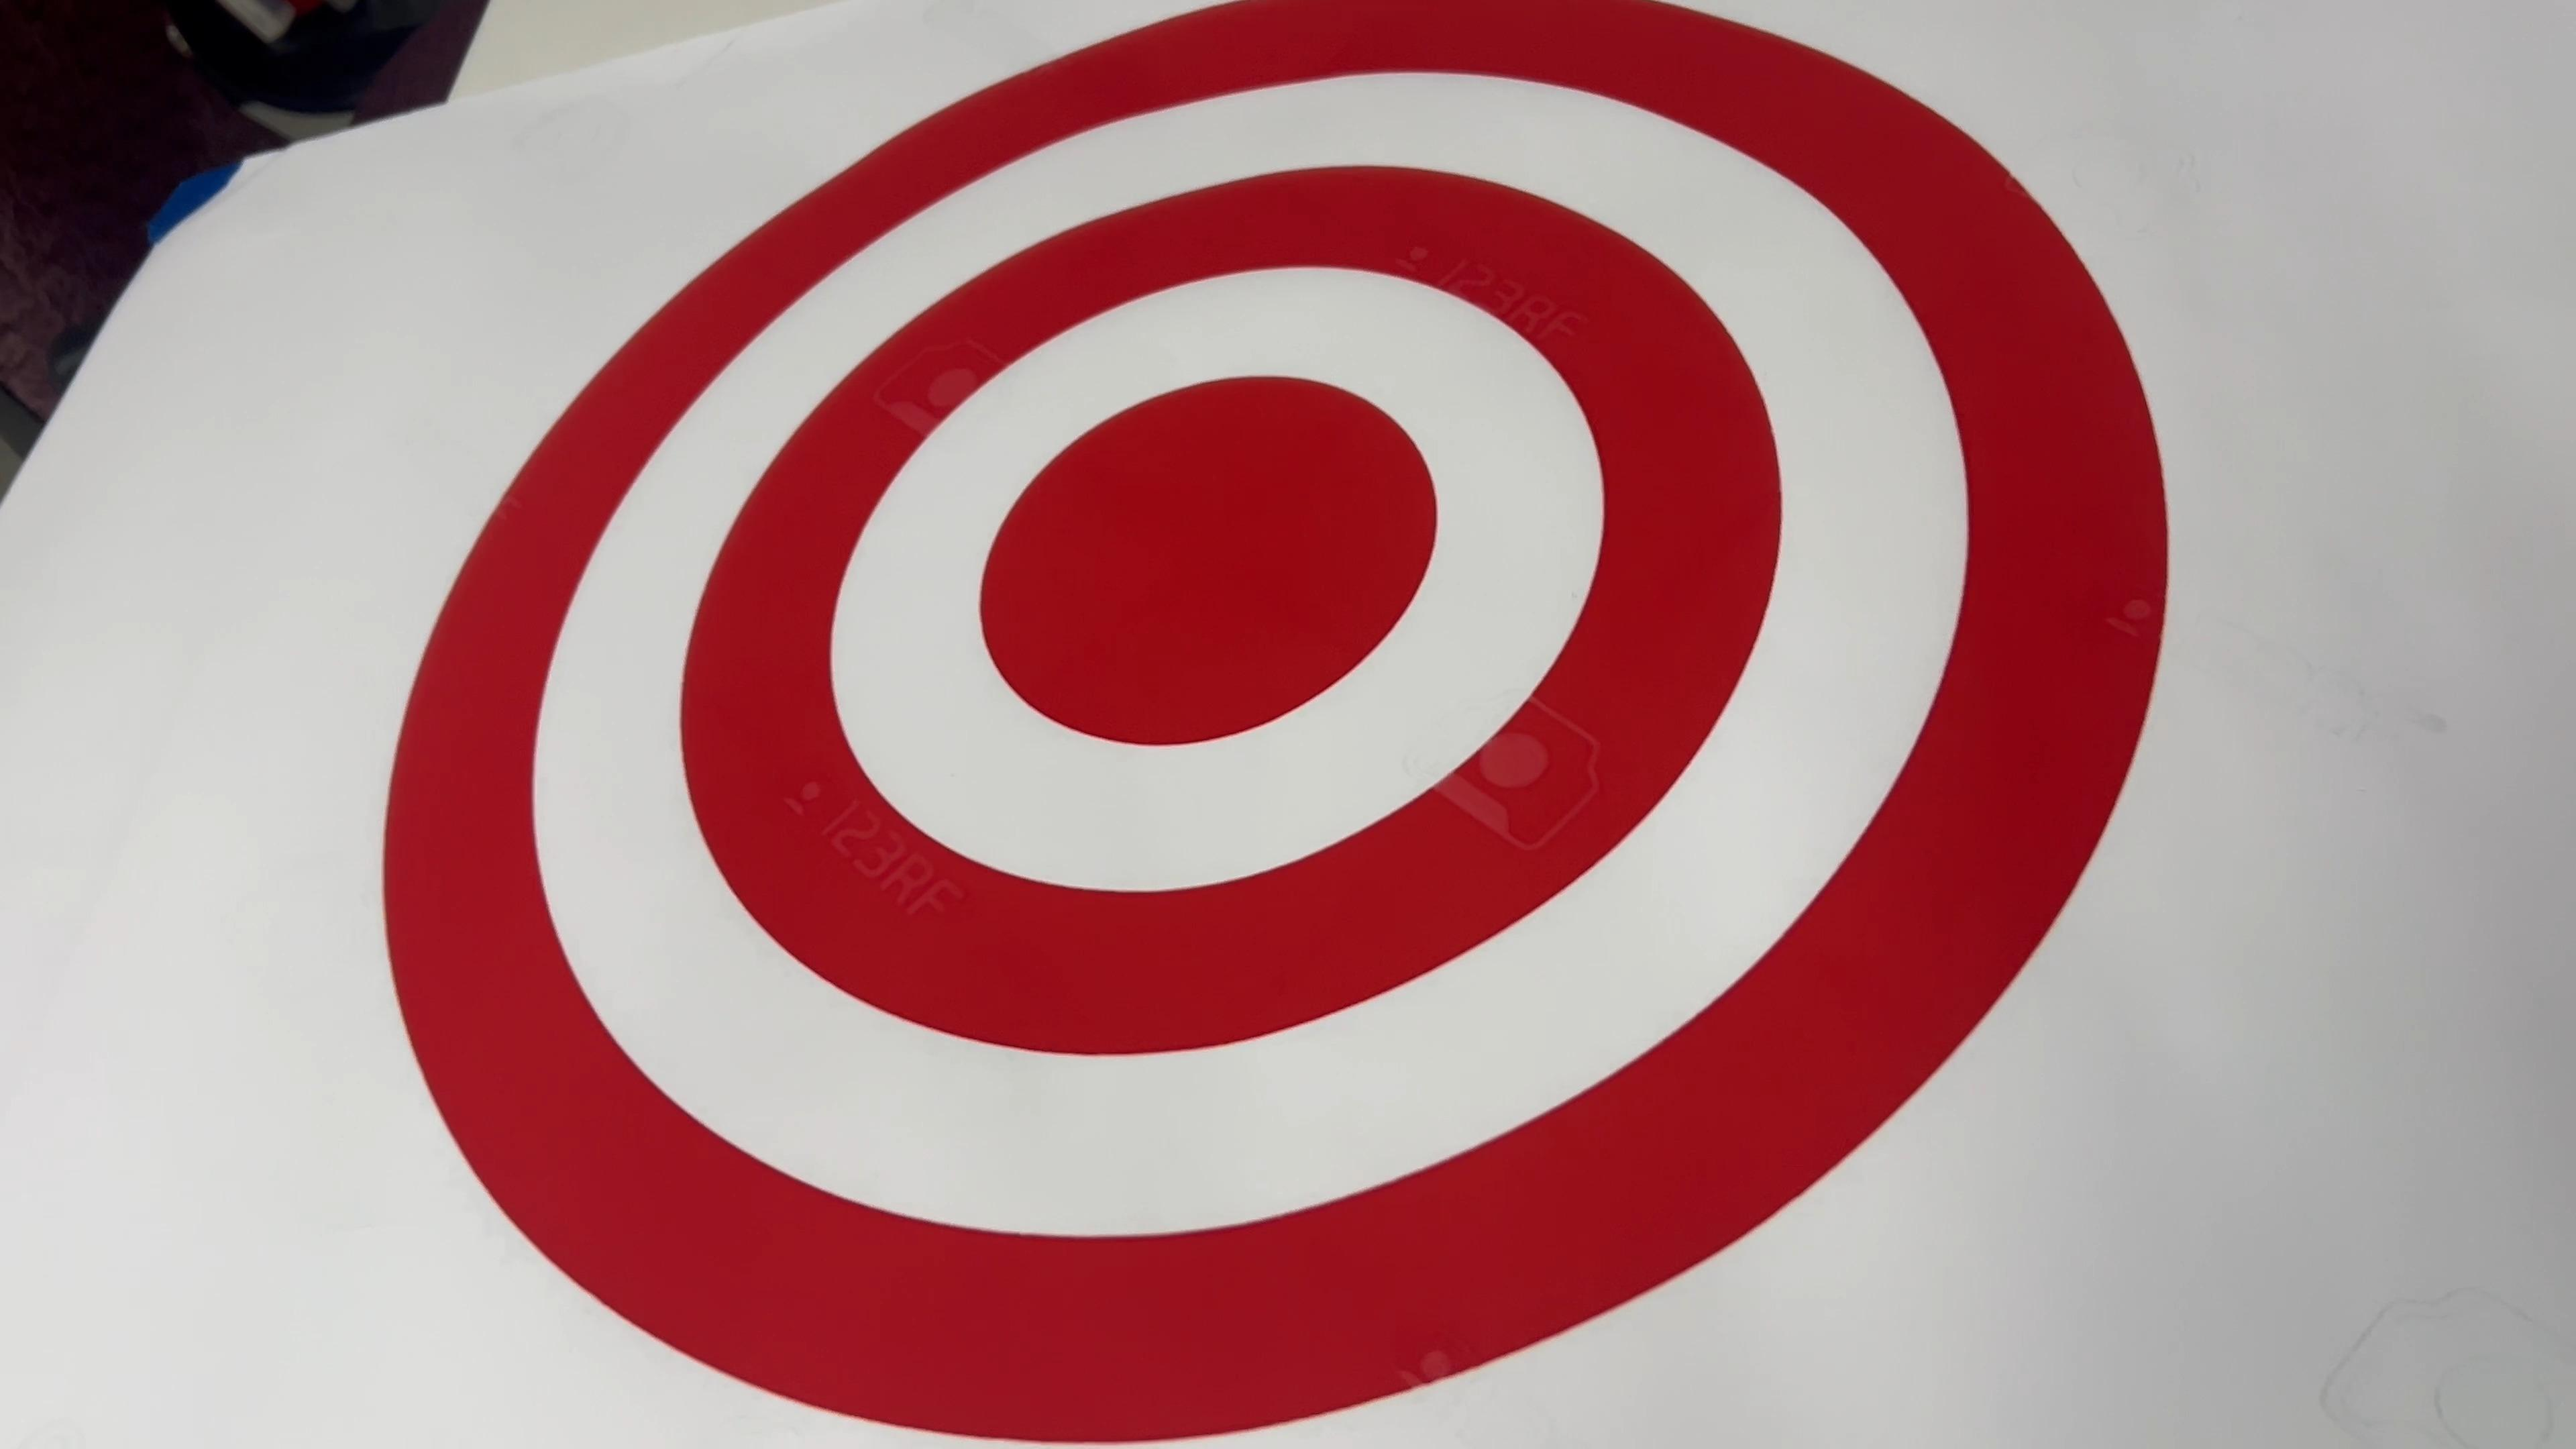target_red: (357, 0, 2181, 1449)
